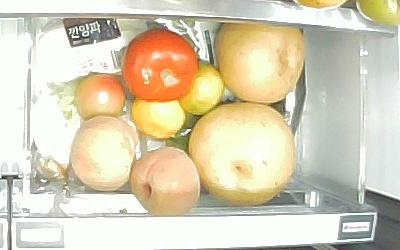peach: (67, 115, 139, 193), (128, 144, 201, 219)
pear: (187, 101, 296, 207), (213, 20, 306, 103)
tangerine: (178, 61, 226, 116), (130, 97, 186, 138)
tomato: (123, 28, 199, 103), (76, 75, 126, 121)
